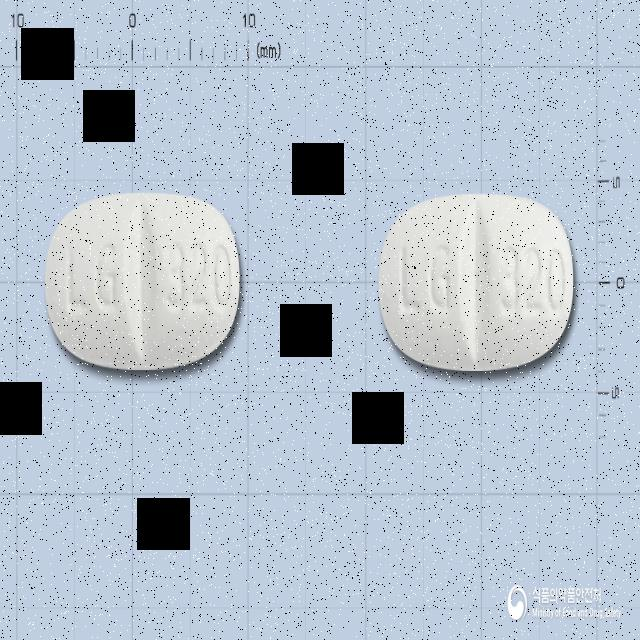Factive: (378, 191, 574, 372), (45, 190, 240, 371)
